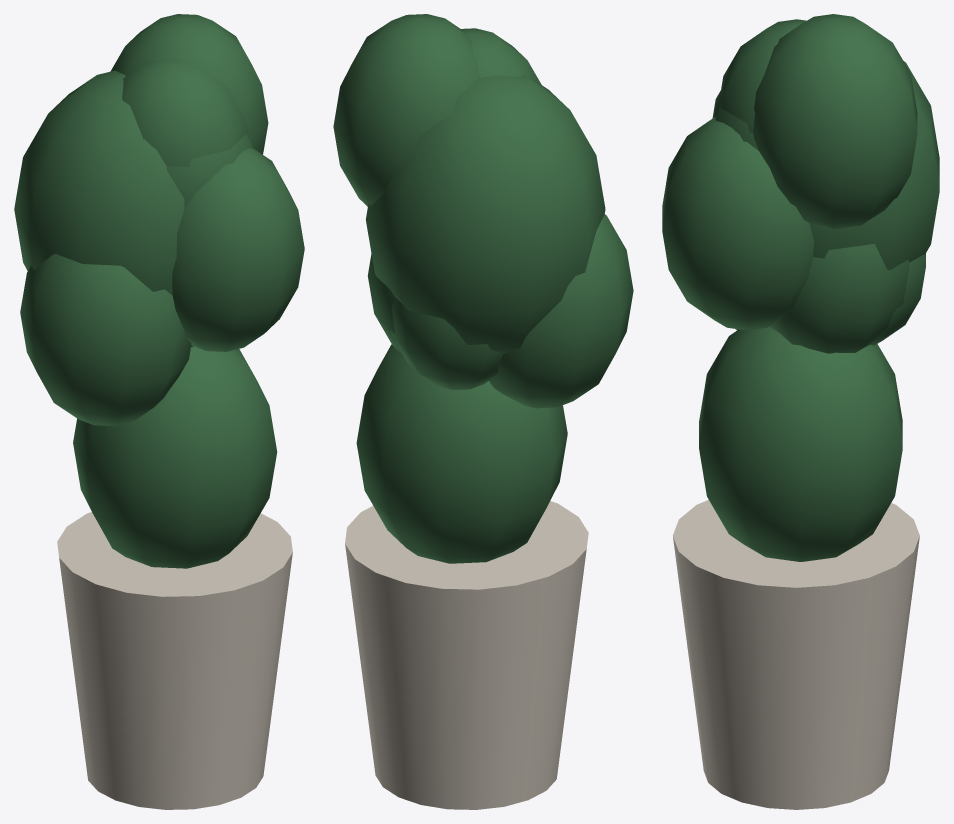
File: Plant_3.glb
3 renders of one model, left to right at view 1: azimuth 30°, elevation 25°; view 2: azimuth 150°, elevation 25°; view 3: azimuth 270°, elevation 25°, orthographic. The views are drawn at different scales.
Parts seen in each view (by area): view 1: Plant_3_Foliage, Plant_3_Planter; view 2: Plant_3_Foliage, Plant_3_Planter; view 3: Plant_3_Foliage, Plant_3_Planter.
Part boxes in pixels (<box>): Plant_3_Foliage: <box>14,14,304,568</box>; Plant_3_Planter: <box>57,512,292,809</box>; Plant_3_Foliage: <box>333,14,633,563</box>; Plant_3_Planter: <box>345,501,588,809</box>; Plant_3_Foliage: <box>662,14,939,561</box>; Plant_3_Planter: <box>673,500,919,809</box>.
Bounding box in the file's own units: 0.4859 × 1.37 × 0.4494.
